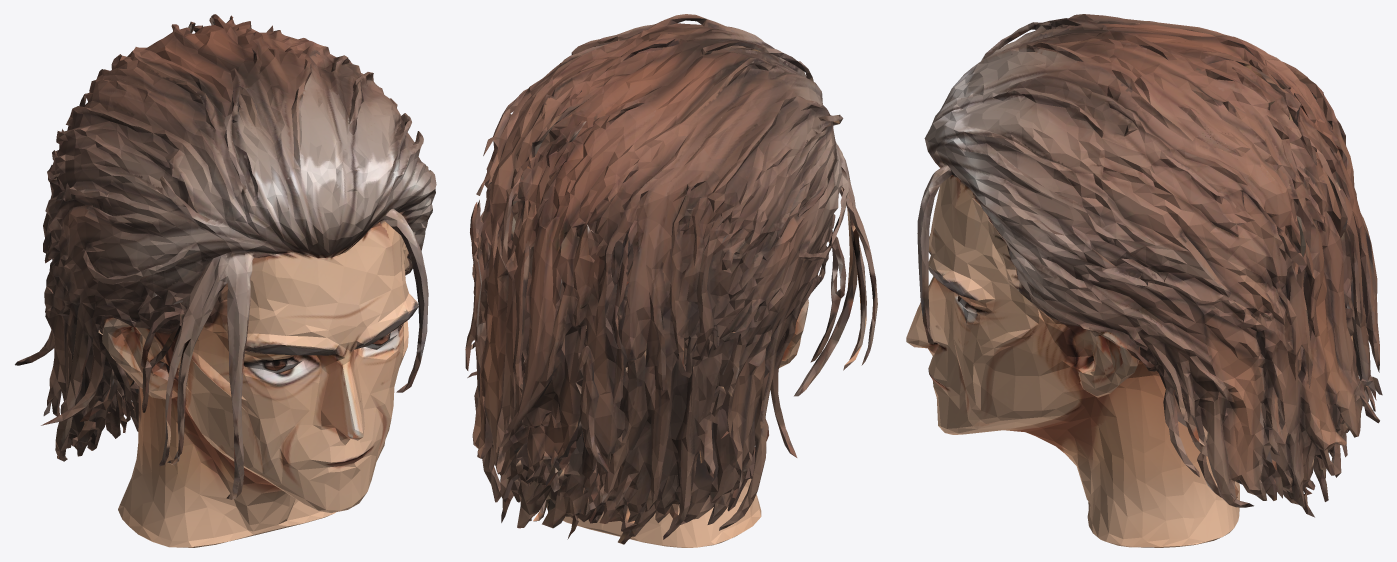
Rendered from side_sakeseller_repaired_atlas.glb.
The picture shows the model from 3 angles, left to right: view 1: azimuth 30°, elevation 25°; view 2: azimuth 150°, elevation 25°; view 3: azimuth 270°, elevation 25°; orthographic projection. The views are drawn at different scales.
Parts seen in each view (by area): view 1: temp_mesh.ply; view 2: temp_mesh.ply; view 3: temp_mesh.ply.
Part boxes in pixels (left/top/right/bottom): temp_mesh.ply: left=15, top=14, right=436, bottom=547; temp_mesh.ply: left=465, top=14, right=877, bottom=547; temp_mesh.ply: left=906, top=14, right=1382, bottom=547.
Bounding box in the file's own units: 1.1 × 1.44 × 1.32.
Materials: 1 (1 with a texture image).
